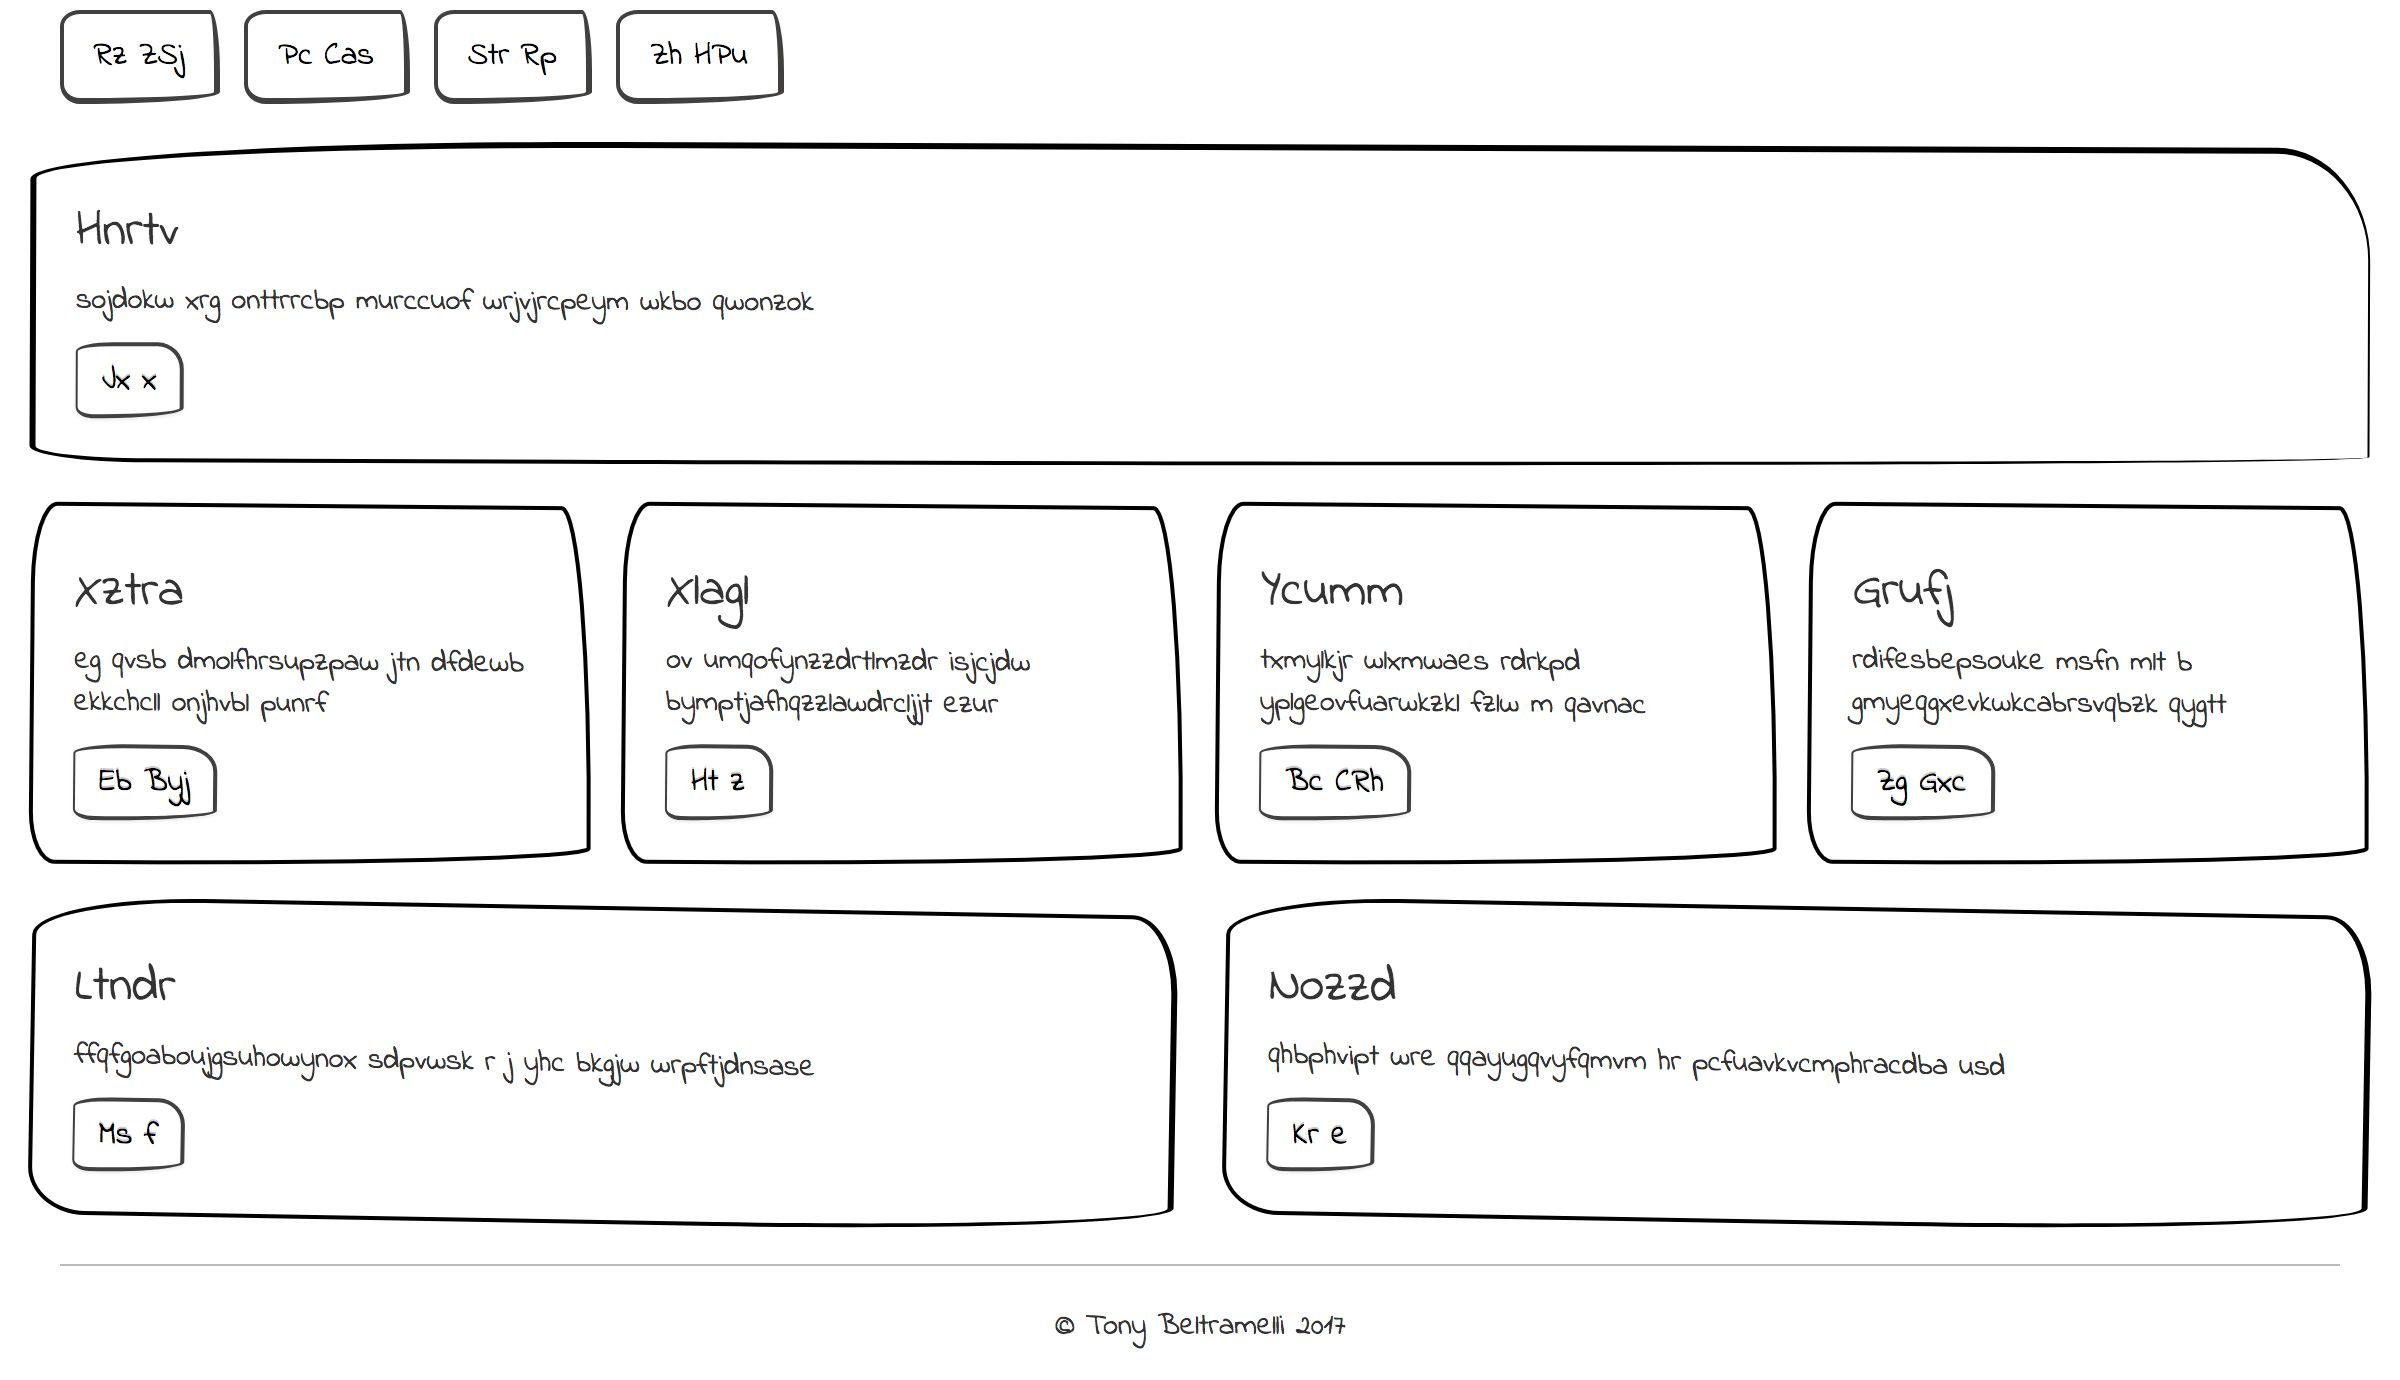btn-active: (560, 2, 770, 119), (377, 2, 555, 119), (208, 2, 384, 119), (35, 2, 199, 124), (51, 692, 236, 795), (1246, 1096, 1431, 1199), (1249, 683, 1432, 785), (1830, 1091, 2013, 1194), (58, 335, 242, 435), (61, 1090, 246, 1190), (640, 1090, 823, 1190)
double: (5, 476, 1193, 843), (1197, 480, 2384, 846)
quadruple: (598, 847, 1207, 1250), (1788, 834, 2397, 1237), (1190, 841, 1797, 1243), (2, 836, 607, 1238)
row: (2, 833, 2400, 1248), (2, 135, 2400, 485), (2, 476, 2400, 826), (21, 2, 2397, 134)
single: (20, 124, 2400, 486)
small-title: (1241, 554, 1419, 628), (1241, 907, 1419, 981), (1826, 917, 2004, 991), (61, 191, 237, 265), (59, 546, 236, 618), (54, 917, 231, 989), (651, 917, 827, 989)
text: (653, 983, 1103, 1087), (1245, 996, 1695, 1100), (63, 984, 513, 1087), (1835, 989, 2285, 1091), (1243, 628, 2042, 683), (63, 628, 821, 684), (61, 275, 819, 325)
